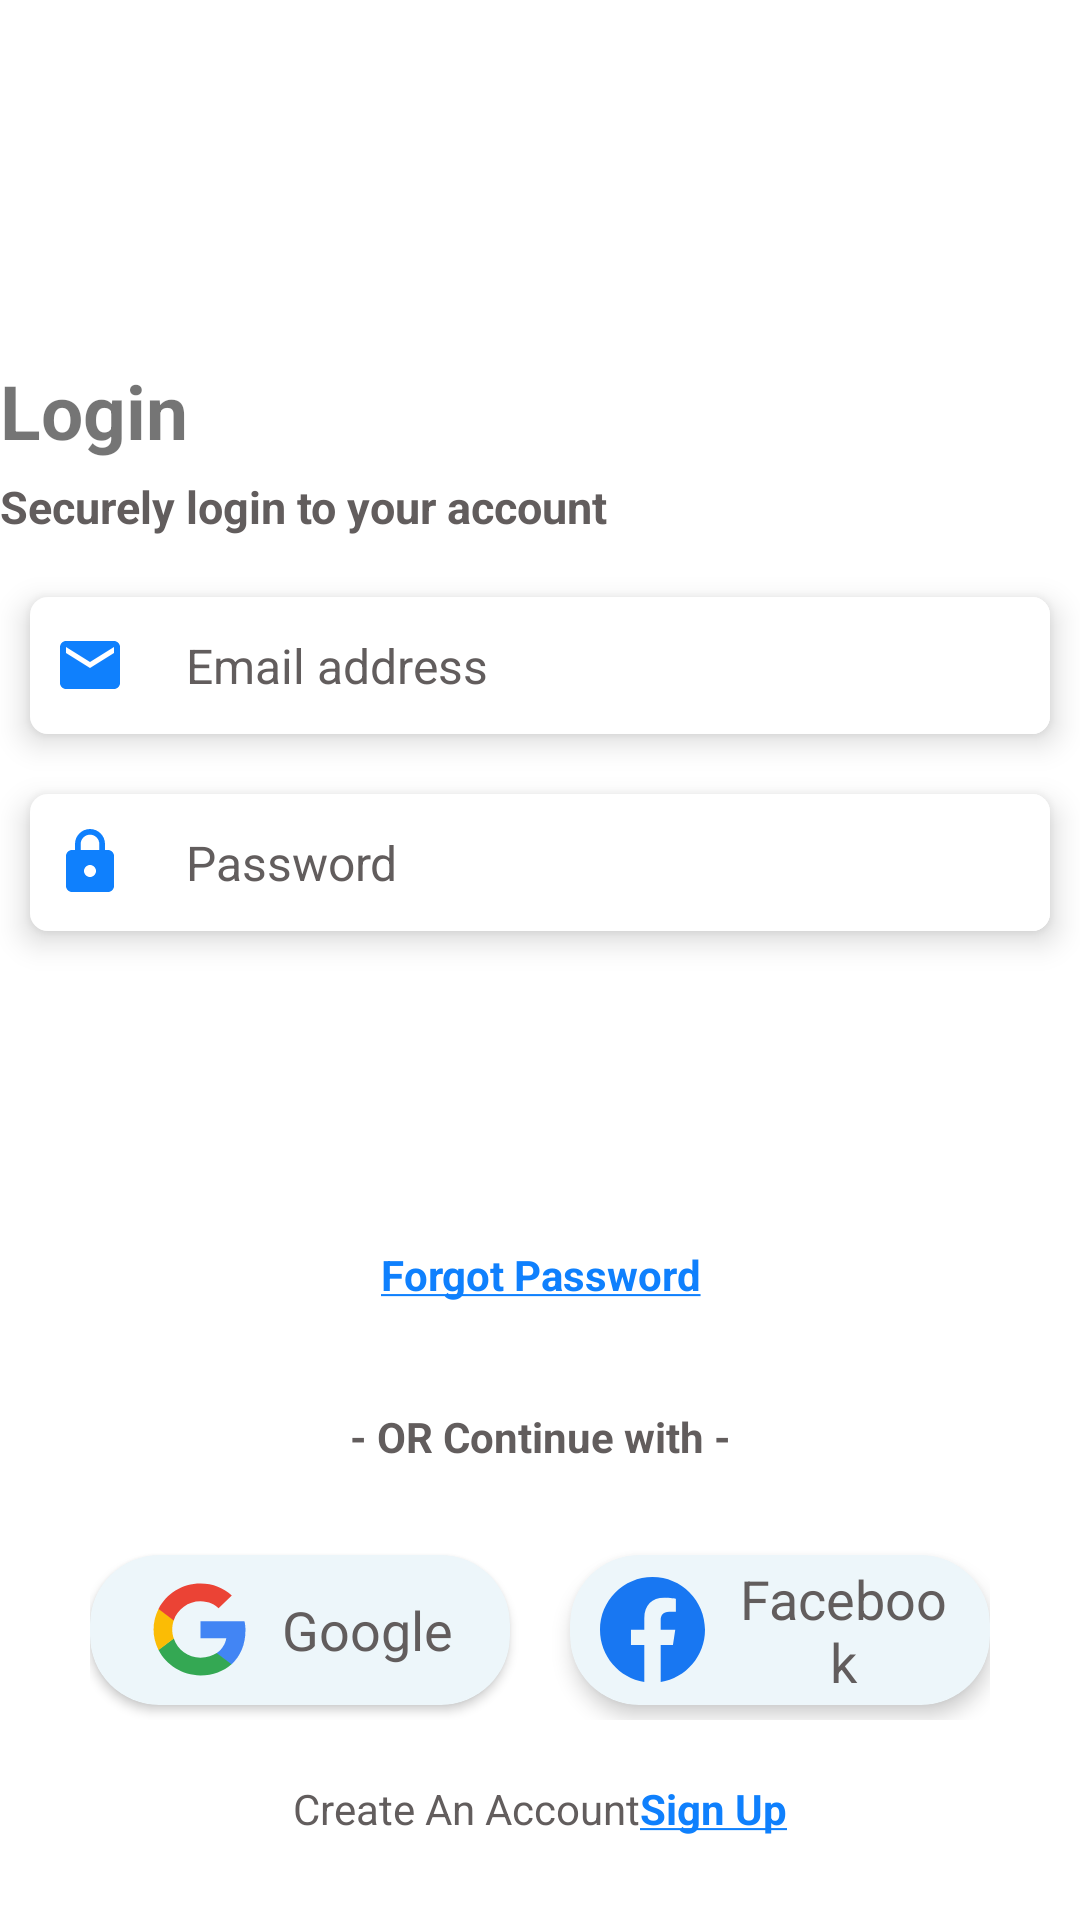

Named icons in this screenshot (1080x1920) and their bounding boxes, (x1, y1, x2, y2):
lock: (66, 829, 114, 892)
